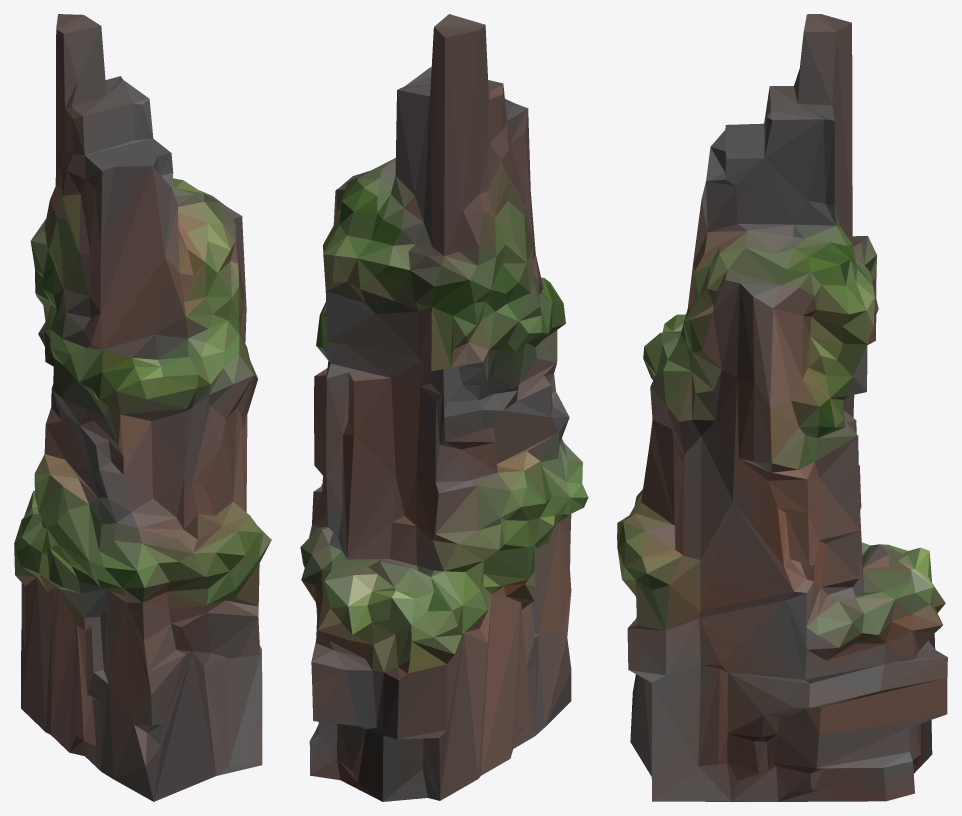
Rendered from Spire_A-foliage.fbx.
The picture shows the model from 3 angles, left to right: view 1: azimuth 30°, elevation 25°; view 2: azimuth 150°, elevation 25°; view 3: azimuth 270°, elevation 25°; orthographic projection. The views are drawn at different scales.
Parts seen in each view (by area): view 1: Spire_A-foliage; view 2: Spire_A-foliage; view 3: Spire_A-foliage.
Boxes of the visible parts, x1,y1,x2,y2 form: Spire_A-foliage: (14,14,271,801); Spire_A-foliage: (300,14,588,801); Spire_A-foliage: (617,14,947,801).
Size of the model in its own units: 2998 by 9732 by 4020.
